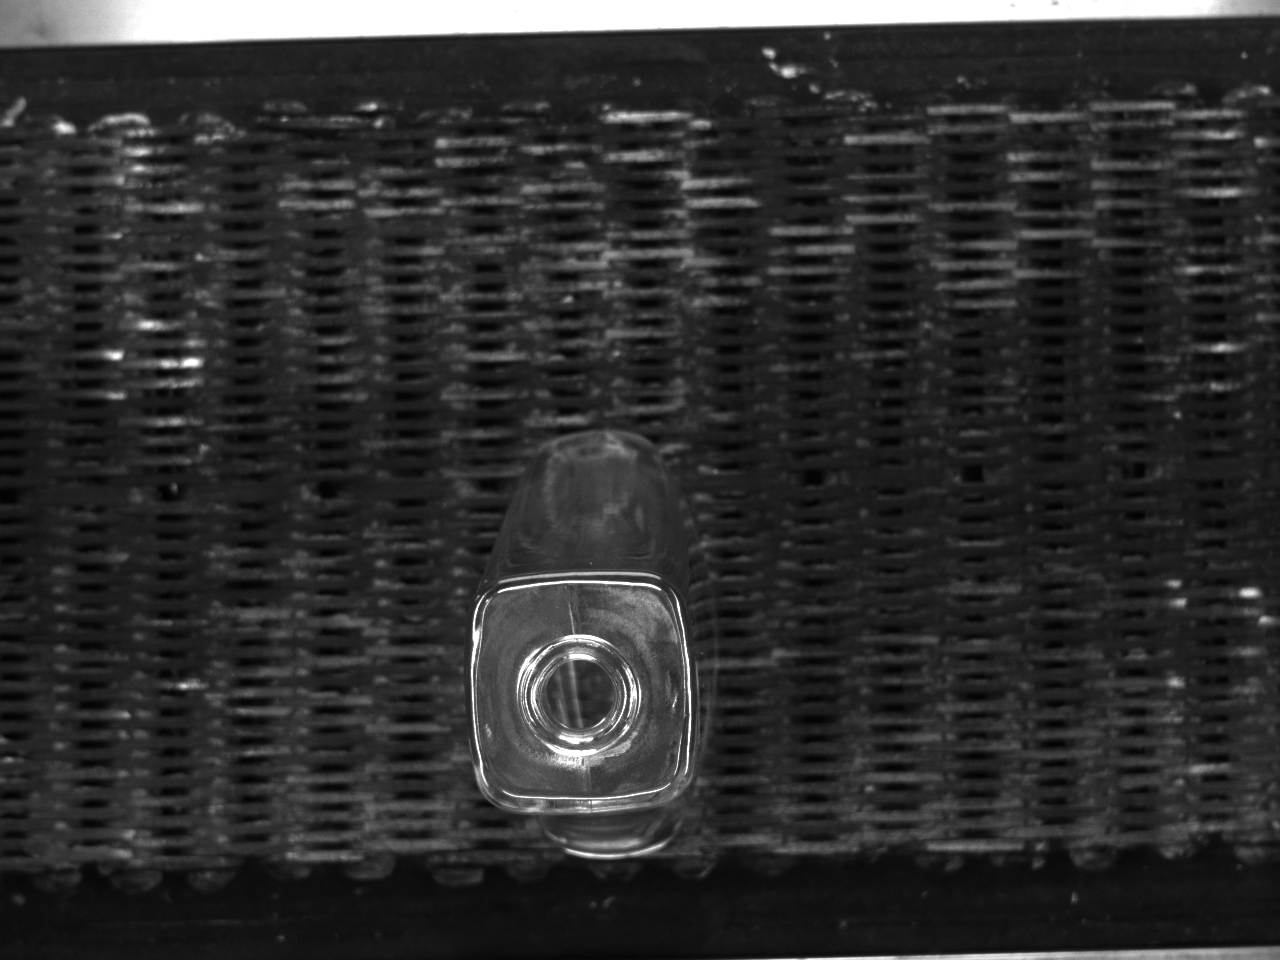bottleneck: (517, 632, 641, 755)
